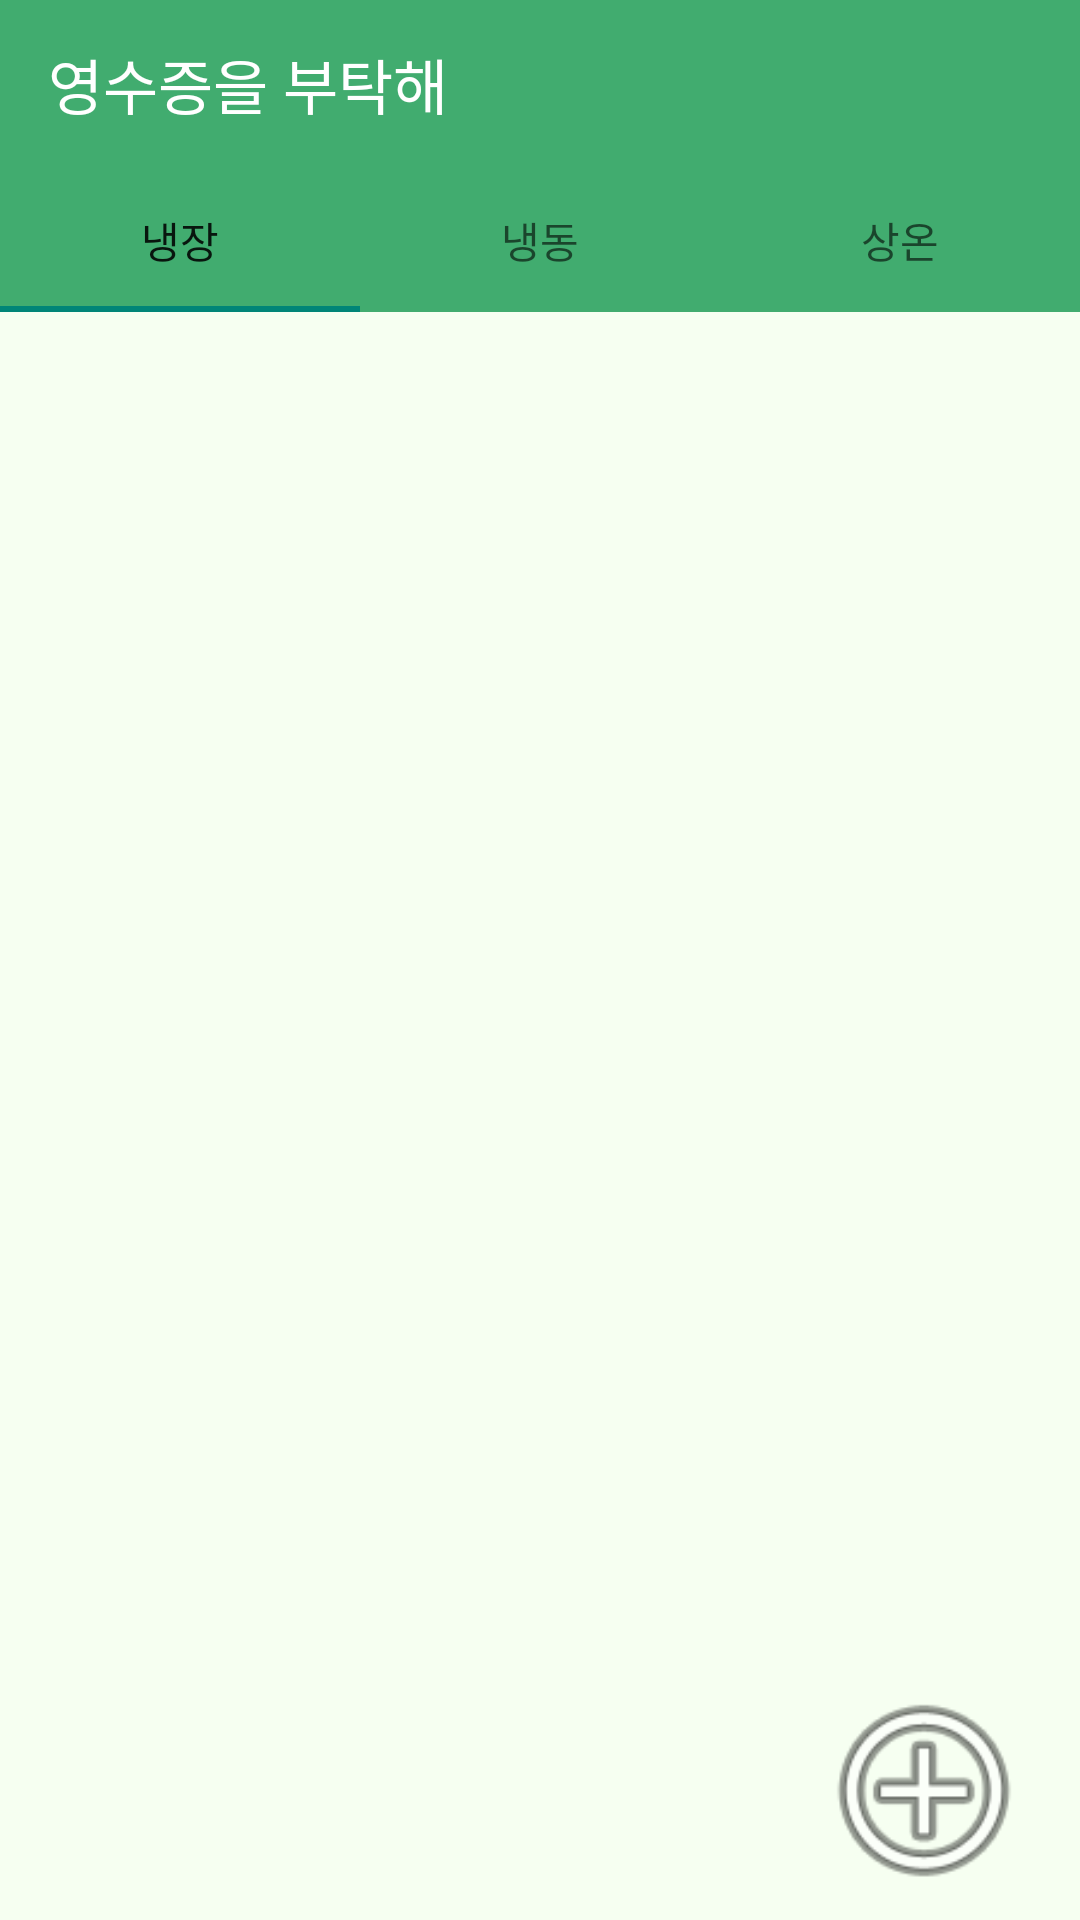

Screen size 1080px x 1920px. Icon name, then its box in pixels as bbox(x1, y1, x2, y2):
add: bbox(838, 1705, 1010, 1877)
